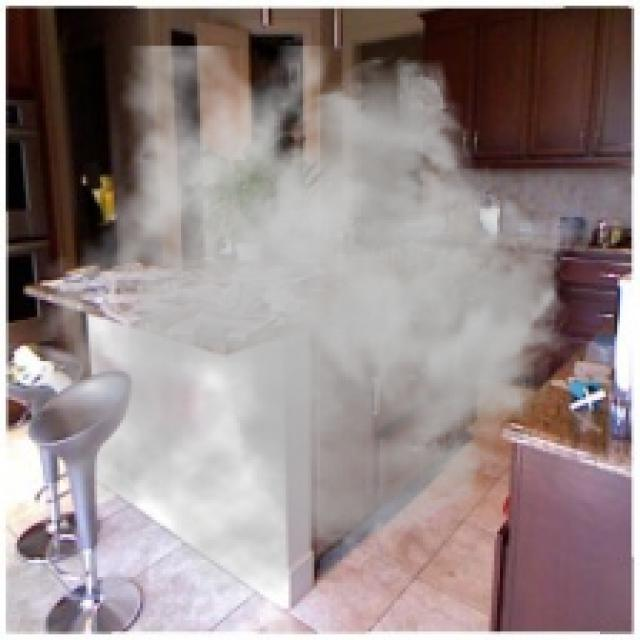smoke: (26, 46, 583, 594)
